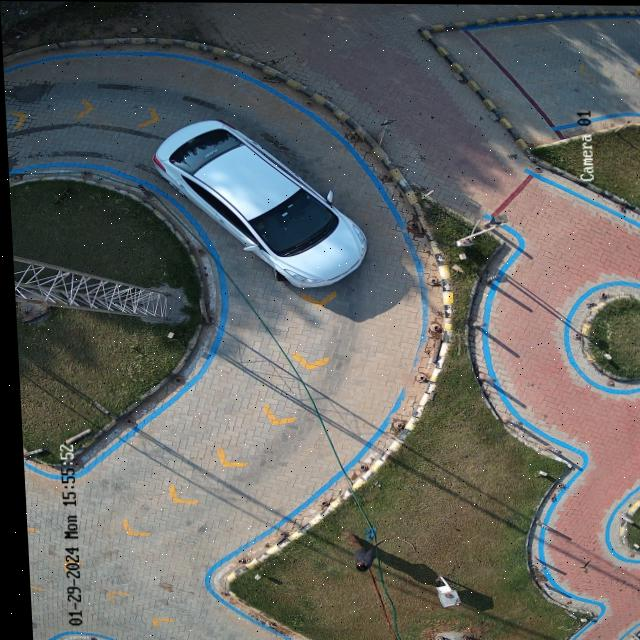car: (151, 119, 365, 287)
